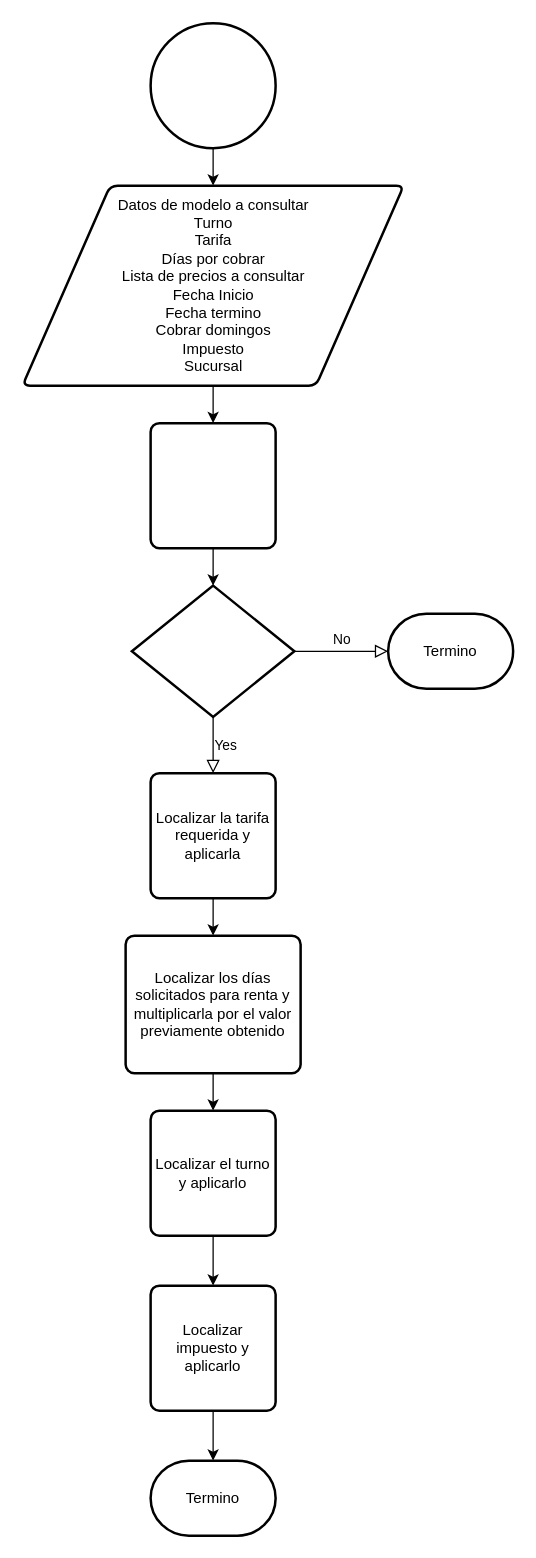
Some shapes in this 536 by 1558 pixel diagram are drawn without their labels. The box of each missing label's shape, as (x1, y1, x2, y2) in pixels:
Calculo de precio: (149, 21, 276, 149)
Proceso de solicitud de precios: (149, 421, 276, 549)
¿Existen precio?: (130, 584, 295, 718)
